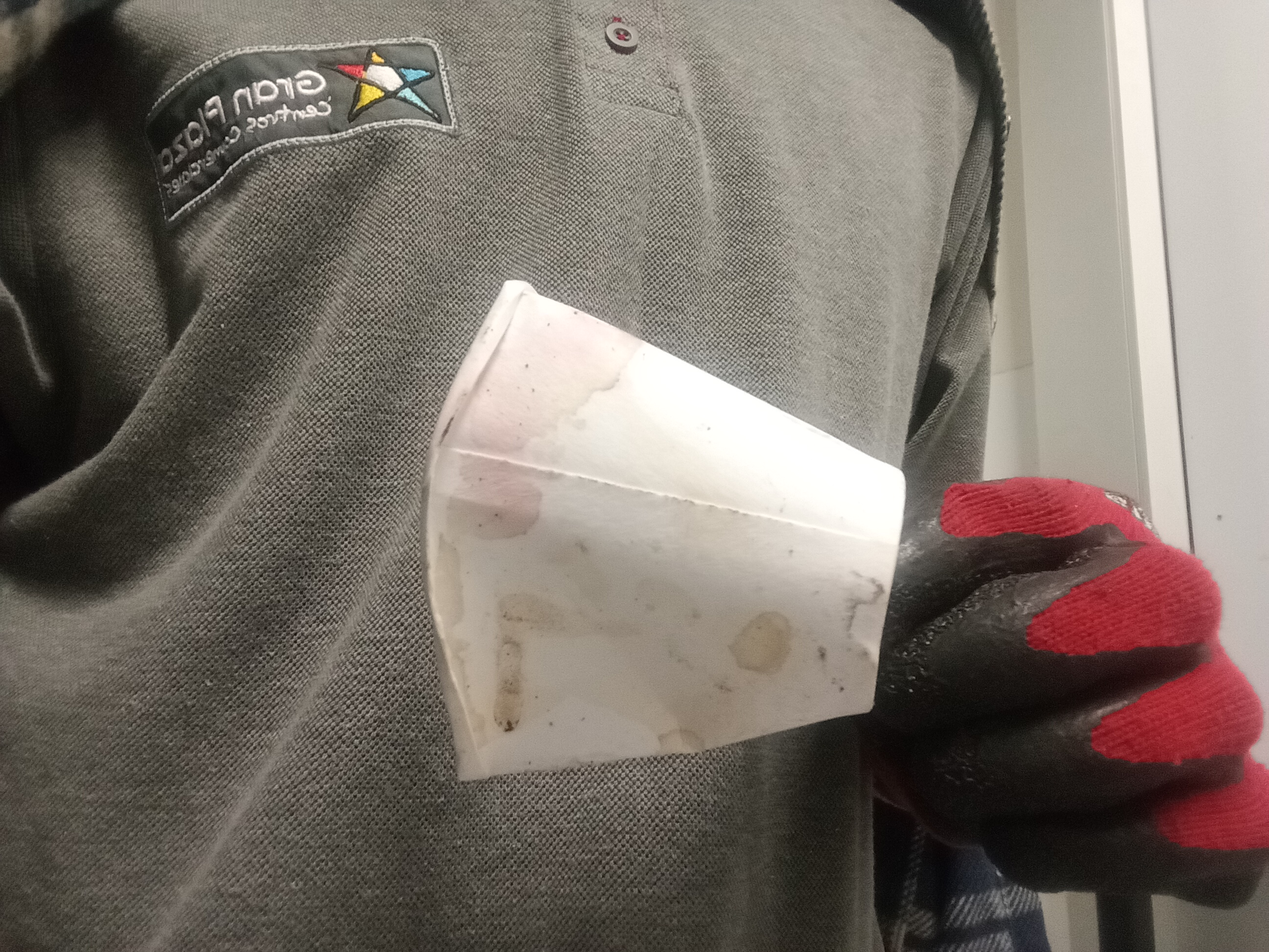Carton: (409, 279, 909, 785)
